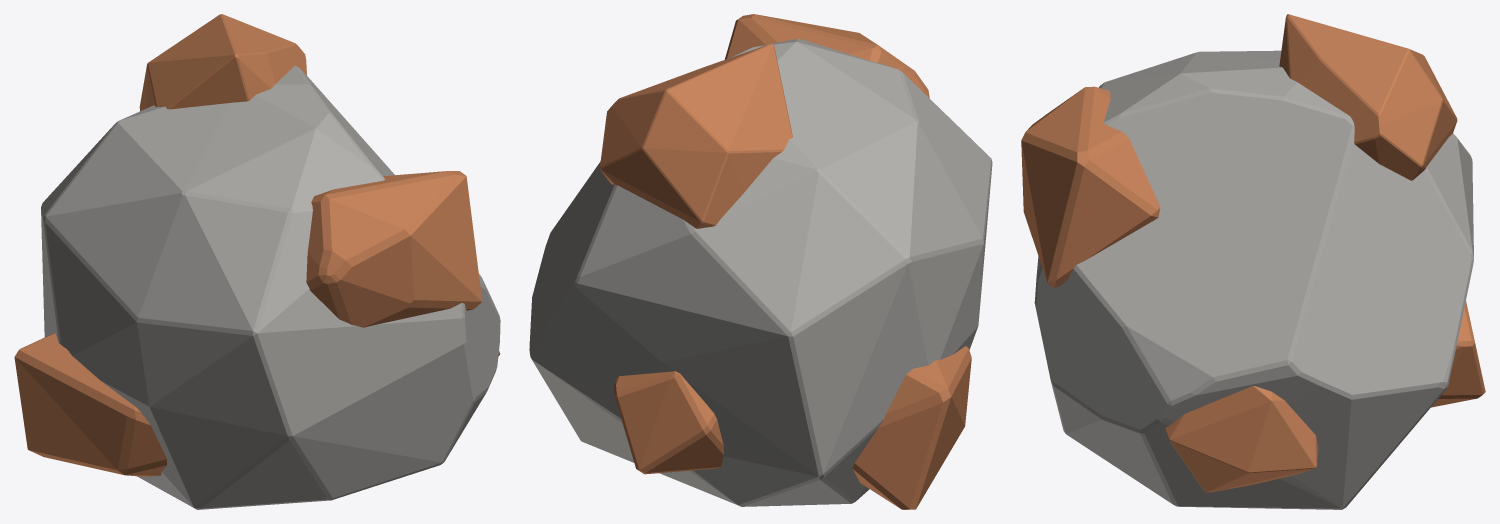
The model's file is copper_ore.glb.
The picture shows the model from 3 angles, left to right: view 1: azimuth 30°, elevation 25°; view 2: azimuth 150°, elevation 25°; view 3: azimuth 270°, elevation 25°; orthographic projection. The views are drawn at different scales.
Parts seen in each view (by area): view 1: CopperOre; view 2: CopperOre; view 3: CopperOre.
Boxes of the visible parts, x1=… form: CopperOre: x1=14, y1=14, x2=500, y2=509; CopperOre: x1=529, y1=14, x2=992, y2=509; CopperOre: x1=1021, y1=14, x2=1485, y2=509.
Size of the model in its own units: 0.263 by 0.2524 by 0.2406.
